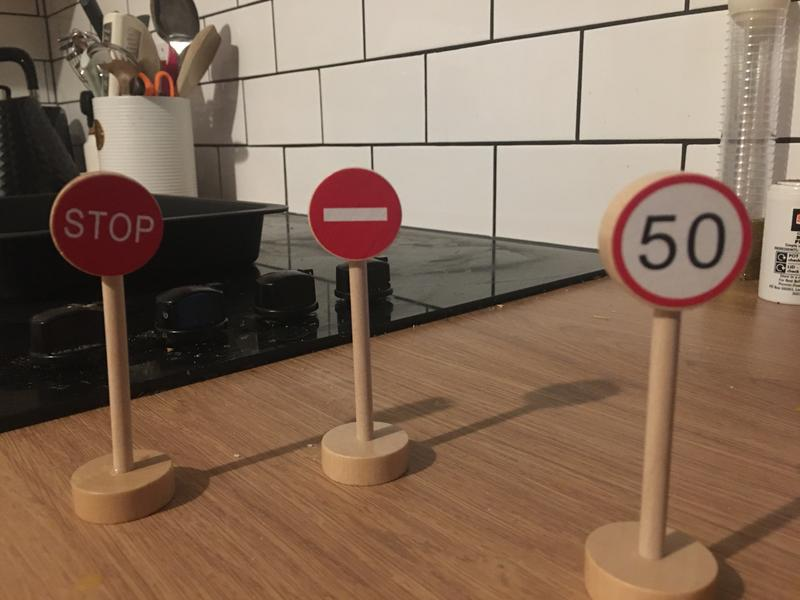Traffic_Sign_50: (616, 173, 751, 310)
Traffic_Sign_No_Entry: (309, 169, 404, 261)
Traffic_Sign_Stop: (52, 172, 162, 279)
